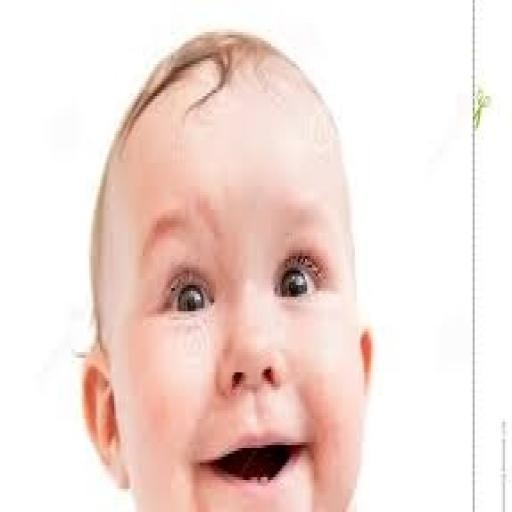laughing: (72, 23, 386, 509)
